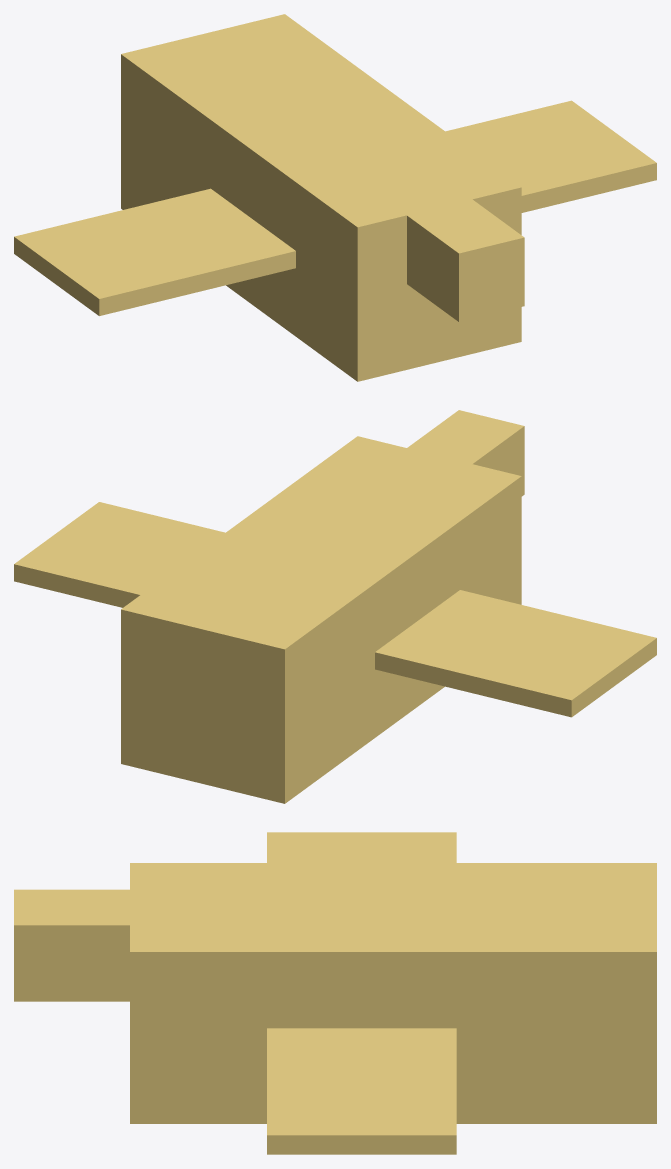
File: sunfire_dragon.glb
3 renders of one model, top to bottom at view 1: azimuth 30°, elevation 25°; view 2: azimuth 150°, elevation 25°; view 3: azimuth 270°, elevation 25°, orthographic. The views are drawn at different scales.
Visible parts, largest first — view 1: sunfire_dragon; view 2: sunfire_dragon; view 3: sunfire_dragon.
Part boxes in pixels (x1=…): sunfire_dragon: x1=14, y1=14, x2=656, y2=381; sunfire_dragon: x1=14, y1=410, x2=656, y2=803; sunfire_dragon: x1=14, y1=832, x2=656, y2=1154.
Bounding box in the file's own units: 6.8 × 1.8 × 6.1.
